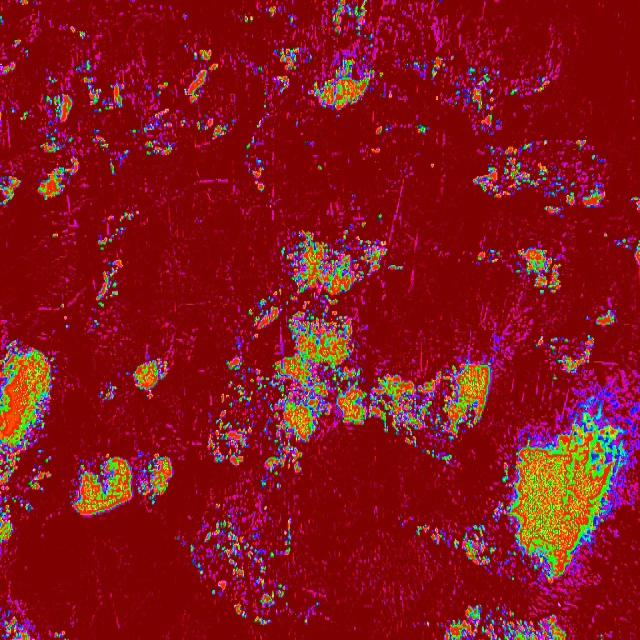fire: (205, 231, 491, 489), (493, 389, 629, 593), (179, 503, 293, 623), (0, 338, 56, 546), (472, 138, 607, 221), (443, 604, 570, 640), (72, 450, 134, 518), (306, 58, 384, 112), (454, 66, 506, 136), (76, 58, 126, 113), (36, 92, 78, 156), (512, 245, 562, 297), (132, 108, 180, 161), (532, 332, 594, 373), (182, 43, 219, 108), (34, 154, 82, 202), (136, 452, 175, 509), (90, 128, 131, 178), (95, 209, 137, 251), (460, 522, 494, 568), (332, 0, 367, 42), (134, 358, 168, 400), (414, 522, 460, 552), (402, 58, 455, 84), (244, 138, 268, 194), (95, 259, 121, 309), (194, 112, 234, 138), (272, 44, 304, 74), (0, 614, 36, 640), (616, 234, 640, 265), (584, 308, 618, 328), (294, 600, 322, 624), (0, 176, 22, 206), (12, 38, 36, 58), (97, 382, 119, 402), (276, 73, 294, 96), (533, 75, 550, 95), (59, 302, 70, 331), (492, 243, 504, 269), (70, 26, 89, 42), (155, 82, 170, 102), (252, 112, 272, 126), (260, 87, 270, 114), (416, 121, 430, 138), (1, 62, 18, 74), (286, 16, 300, 30), (264, 6, 280, 18), (509, 86, 522, 100), (631, 194, 640, 213), (366, 32, 376, 49), (50, 628, 66, 638), (240, 14, 255, 24), (376, 125, 390, 135), (44, 76, 58, 86), (92, 318, 104, 329), (20, 110, 31, 122), (428, 160, 438, 172), (293, 116, 302, 129), (16, 0, 30, 8), (360, 219, 370, 230), (178, 115, 188, 126), (50, 230, 59, 242), (255, 64, 264, 76), (315, 163, 325, 173), (8, 106, 18, 116), (600, 228, 610, 238), (377, 212, 385, 224), (346, 221, 356, 230), (598, 630, 606, 640), (552, 374, 562, 381), (0, 12, 4, 28), (173, 536, 179, 544), (425, 619, 431, 627)
